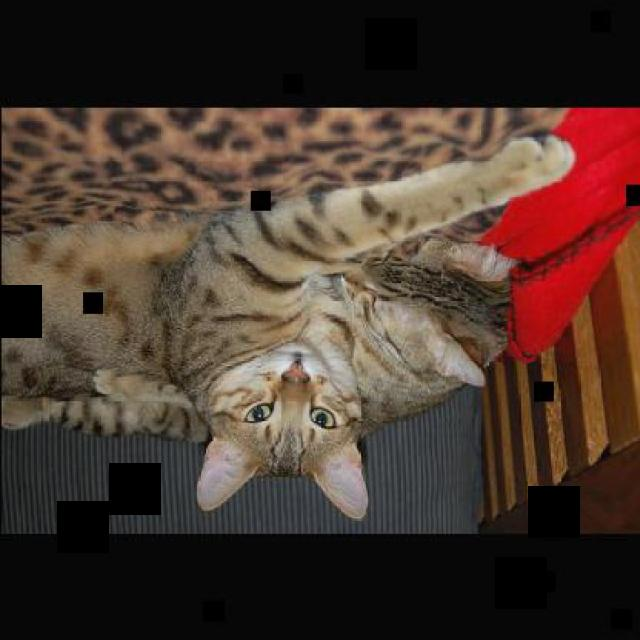unauthorized: (0, 126, 575, 520)
